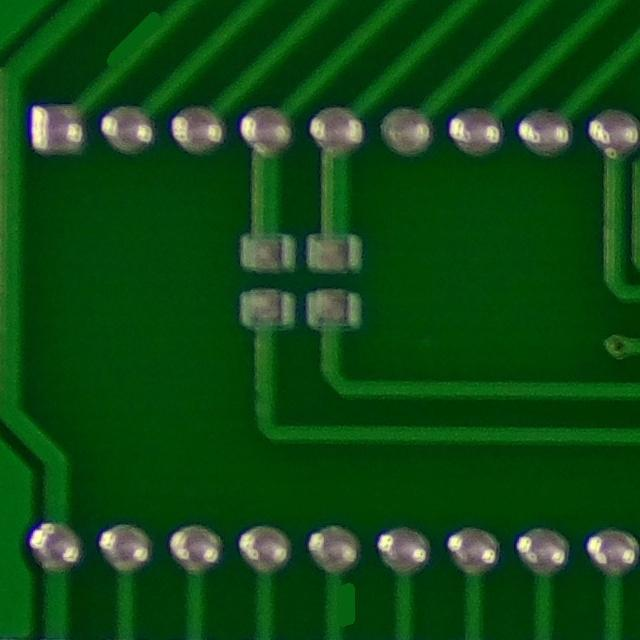spur: (88, 3, 185, 75), (314, 572, 364, 640)
